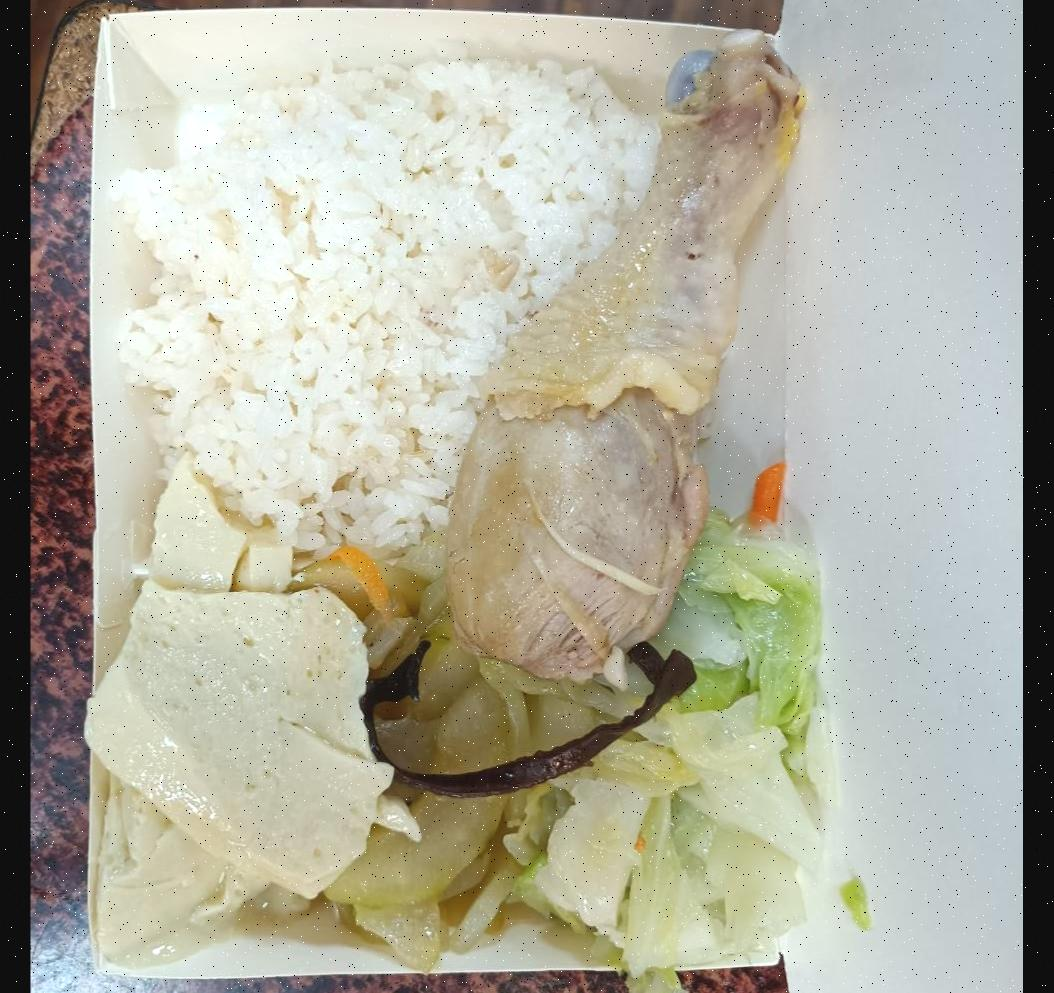box: (63, 0, 839, 993)
side dish: (535, 532, 821, 966), (108, 561, 381, 956), (318, 553, 565, 954)
small herbal chicken leg: (442, 13, 821, 682)
white rice: (130, 52, 694, 548)
